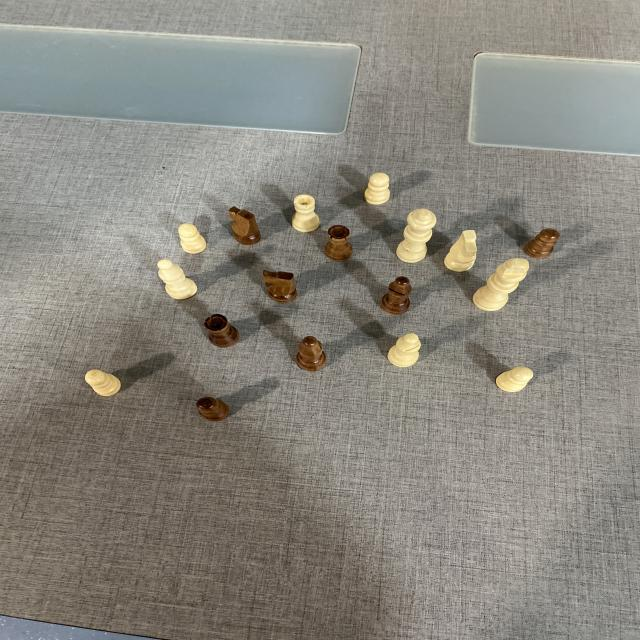Black-Bishop: (382, 276, 415, 314), (294, 337, 331, 369)
Black-Knight: (260, 270, 300, 302), (229, 207, 262, 244)
Black-Pawn: (527, 226, 561, 258), (197, 396, 229, 421)
Black-Rook: (203, 314, 242, 347), (324, 224, 355, 258)
White-Bishop: (158, 259, 200, 300), (387, 332, 425, 369)
White-King: (472, 258, 529, 312)
White-Knight: (446, 228, 480, 272)
White-Pawn: (83, 369, 124, 397), (361, 172, 395, 205), (493, 367, 533, 392), (178, 223, 208, 255)
White-Queen: (394, 209, 438, 263)
White-Rook: (287, 193, 322, 234)
